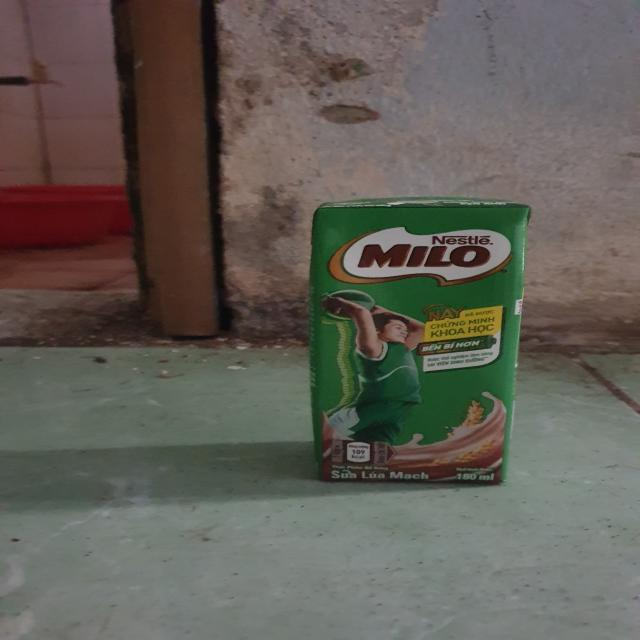Milo: (315, 190, 535, 488)
